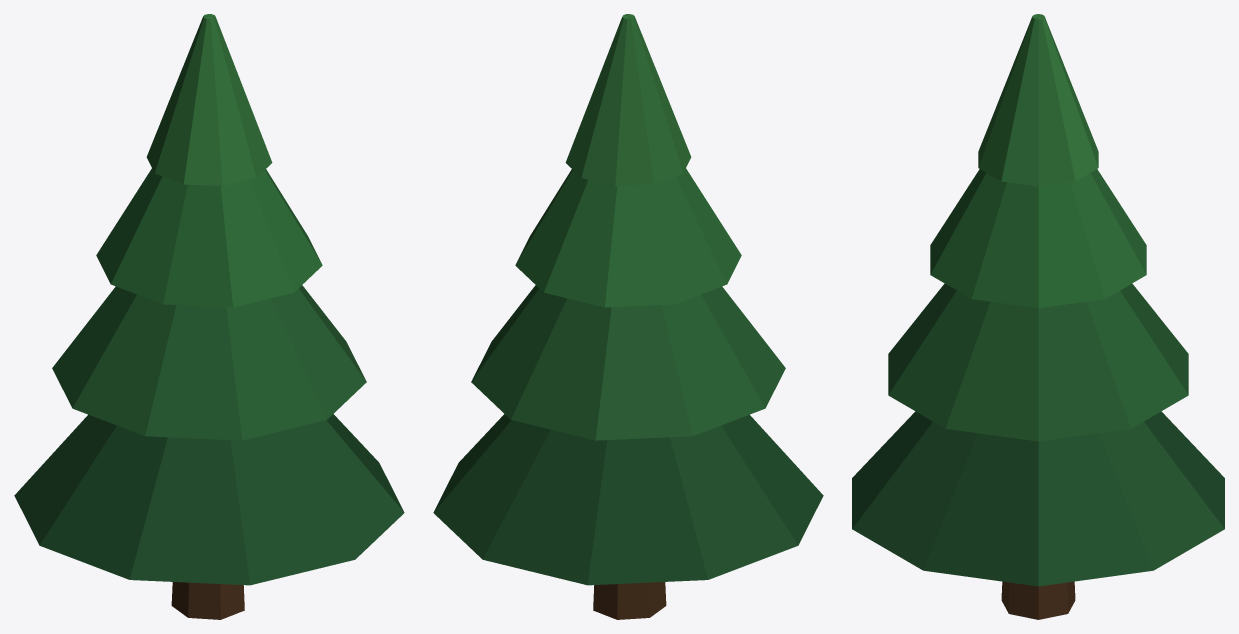
File: tree_1.glb
3 renders of one model, left to right at view 1: azimuth 30°, elevation 25°; view 2: azimuth 150°, elevation 25°; view 3: azimuth 270°, elevation 25°, orthographic.
Visible parts, largest first — view 1: tree_1; view 2: tree_1; view 3: tree_1.
Boxes of the visible parts, box(x1,y1,x2,y2) form: tree_1: box(14, 14, 404, 619); tree_1: box(433, 14, 823, 619); tree_1: box(852, 14, 1224, 619).
Bounding box in the file's own units: 1.24 × 2.05 × 1.18.
